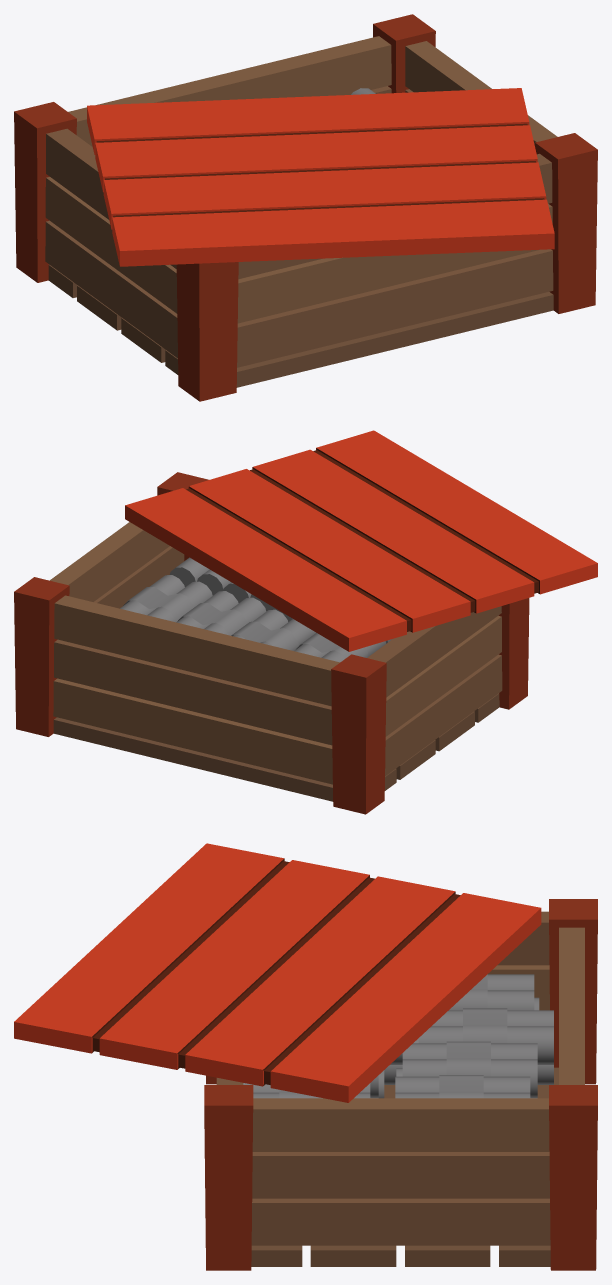
The model's file is SM_Dynamite_Crate_02.obj.
3 views of the same model, one above another, from view 1: azimuth 30°, elevation 25°; view 2: azimuth 150°, elevation 25°; view 3: azimuth 270°, elevation 25° (orthographic). The views are drawn at different scales.
Parts seen in each view (by area): view 1: SM_Dynamite_Crate_02_M_LowPolyFarm_MAIN; view 2: SM_Dynamite_Crate_02_M_LowPolyFarm_MAIN, SM_Dynamite_Crate_02_Mat_SwatchOverlay_Airship; view 3: SM_Dynamite_Crate_02_M_LowPolyFarm_MAIN, SM_Dynamite_Crate_02_Mat_SwatchOverlay_Airship.
Boxes of the visible parts, <box> form: SM_Dynamite_Crate_02_M_LowPolyFarm_MAIN: <box>14,14,597,401</box>; SM_Dynamite_Crate_02_M_LowPolyFarm_MAIN: <box>14,430,597,814</box>; SM_Dynamite_Crate_02_Mat_SwatchOverlay_Airship: <box>120,557,392,662</box>; SM_Dynamite_Crate_02_M_LowPolyFarm_MAIN: <box>14,843,597,1270</box>; SM_Dynamite_Crate_02_Mat_SwatchOverlay_Airship: <box>243,974,553,1098</box>.
Bounding box in the file's own units: 1.51 × 0.5144 × 1.51.
2 materials, 2 textured.
